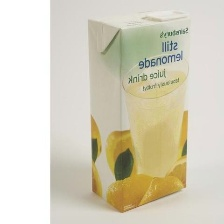carton: (83, 1, 198, 215)
